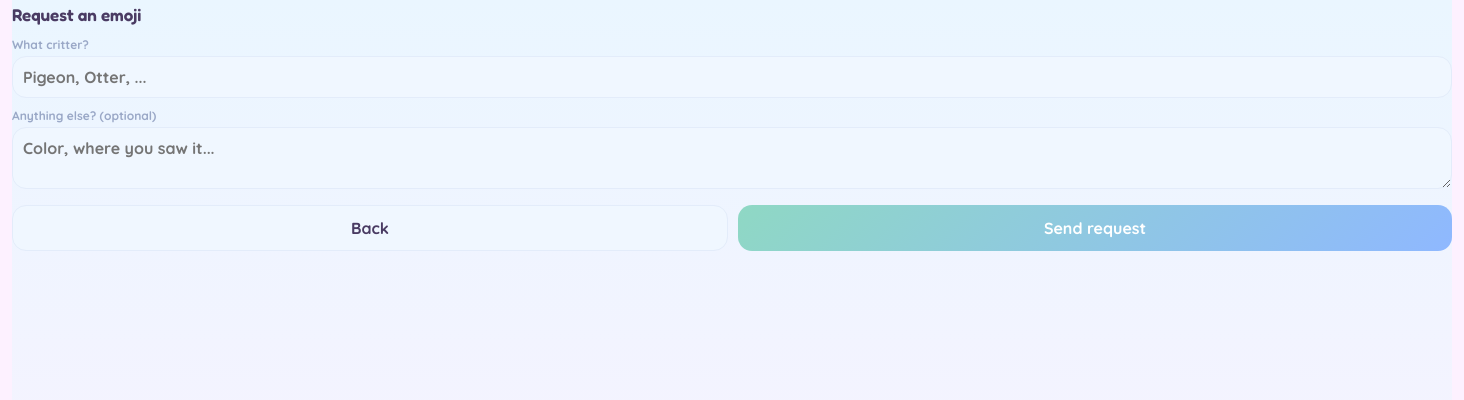
Scenario: EmojiRequestForm › submits a request, confirms, and refreshes the list
Step 1. Type "Otter" into the field labelled "What critter?" → (732, 77), box [12,56,1452,98]
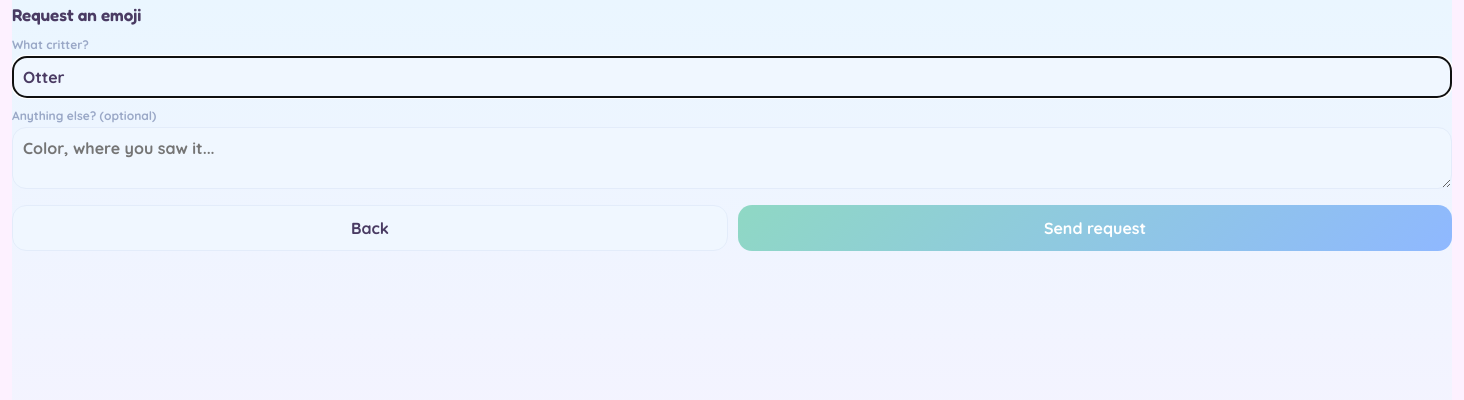
Step 2. Click the button "Send request" → (1095, 228), box [738,205,1452,251]
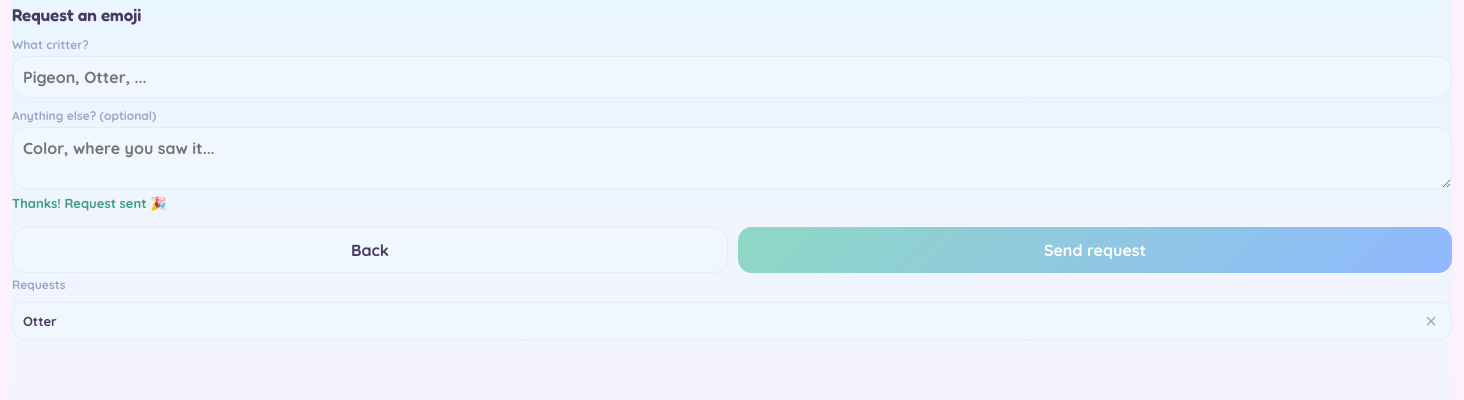
Expected: the text "Thanks! Request sent 🎉" is shown, [12,195,166,211]
Expected: the text "Otter" is shown, [23,313,57,329]
